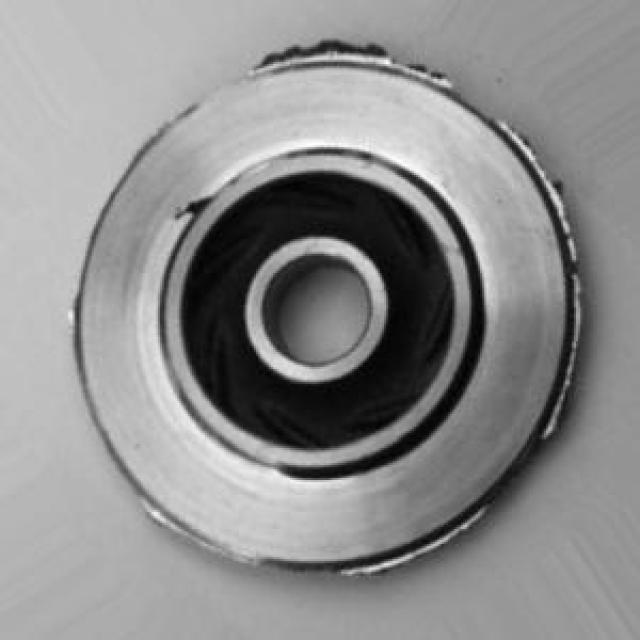Defect: (252, 24, 392, 79)
